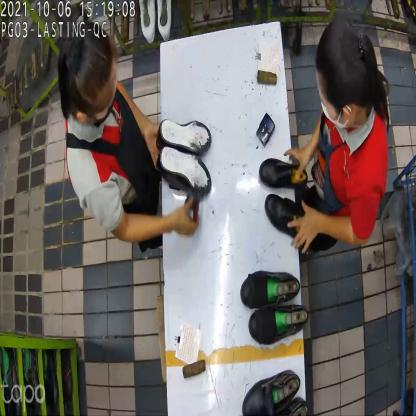shoes: (240, 263, 308, 345), (158, 113, 214, 202), (258, 156, 313, 242), (239, 366, 307, 415)
stamp: (256, 112, 276, 146), (184, 188, 198, 227)
